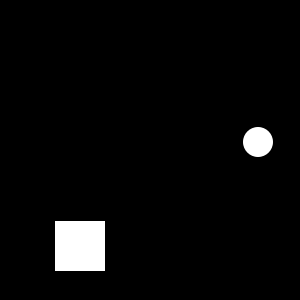circle: (55, 221, 105, 271)
rectangle: (243, 127, 273, 157)
